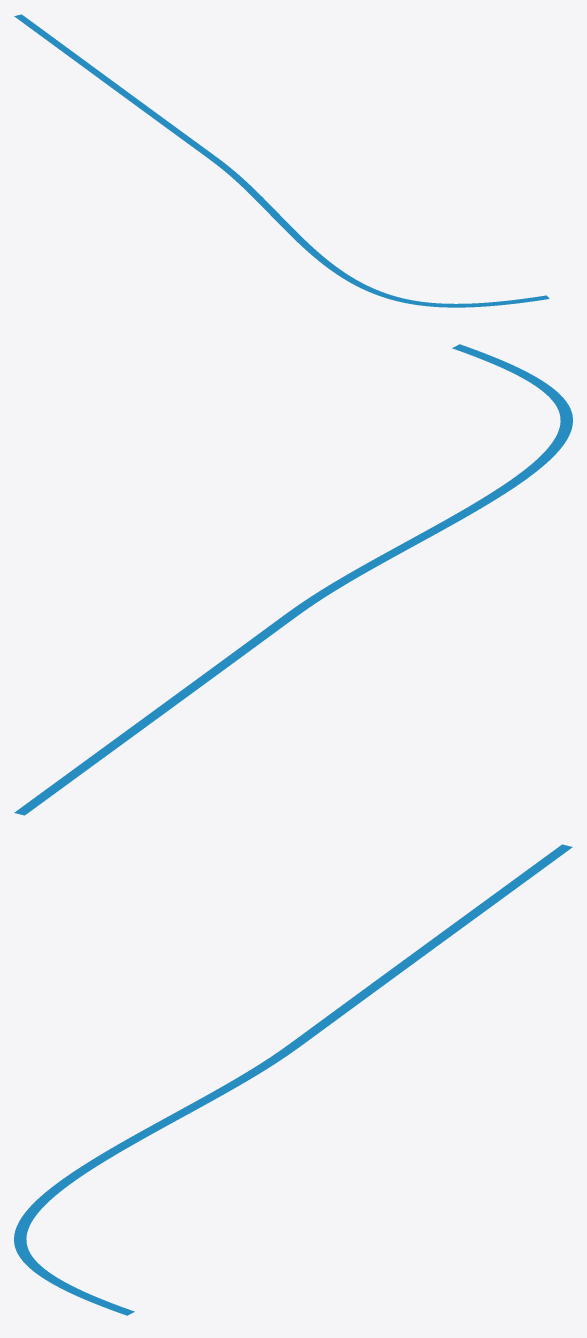
File: guide.glb
The picture shows the model from 3 angles, top to bottom: view 1: azimuth 30°, elevation 25°; view 2: azimuth 150°, elevation 25°; view 3: azimuth 330°, elevation 25°; orthographic projection. The views are drawn at different scales.
Parts seen in each view (by area): view 1: static; view 2: static; view 3: static.
Boxes of the visible parts, x1,y1,x2,y2 form: static: (14,14,549,307); static: (14,344,572,815); static: (14,844,572,1315).
Size of the model in its own units: 6.54 by 0 by 30.63.
